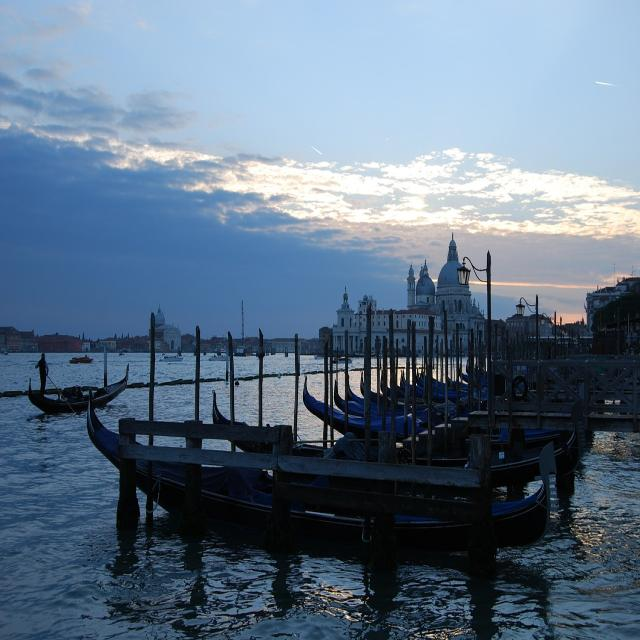boat: (21, 357, 145, 421)
